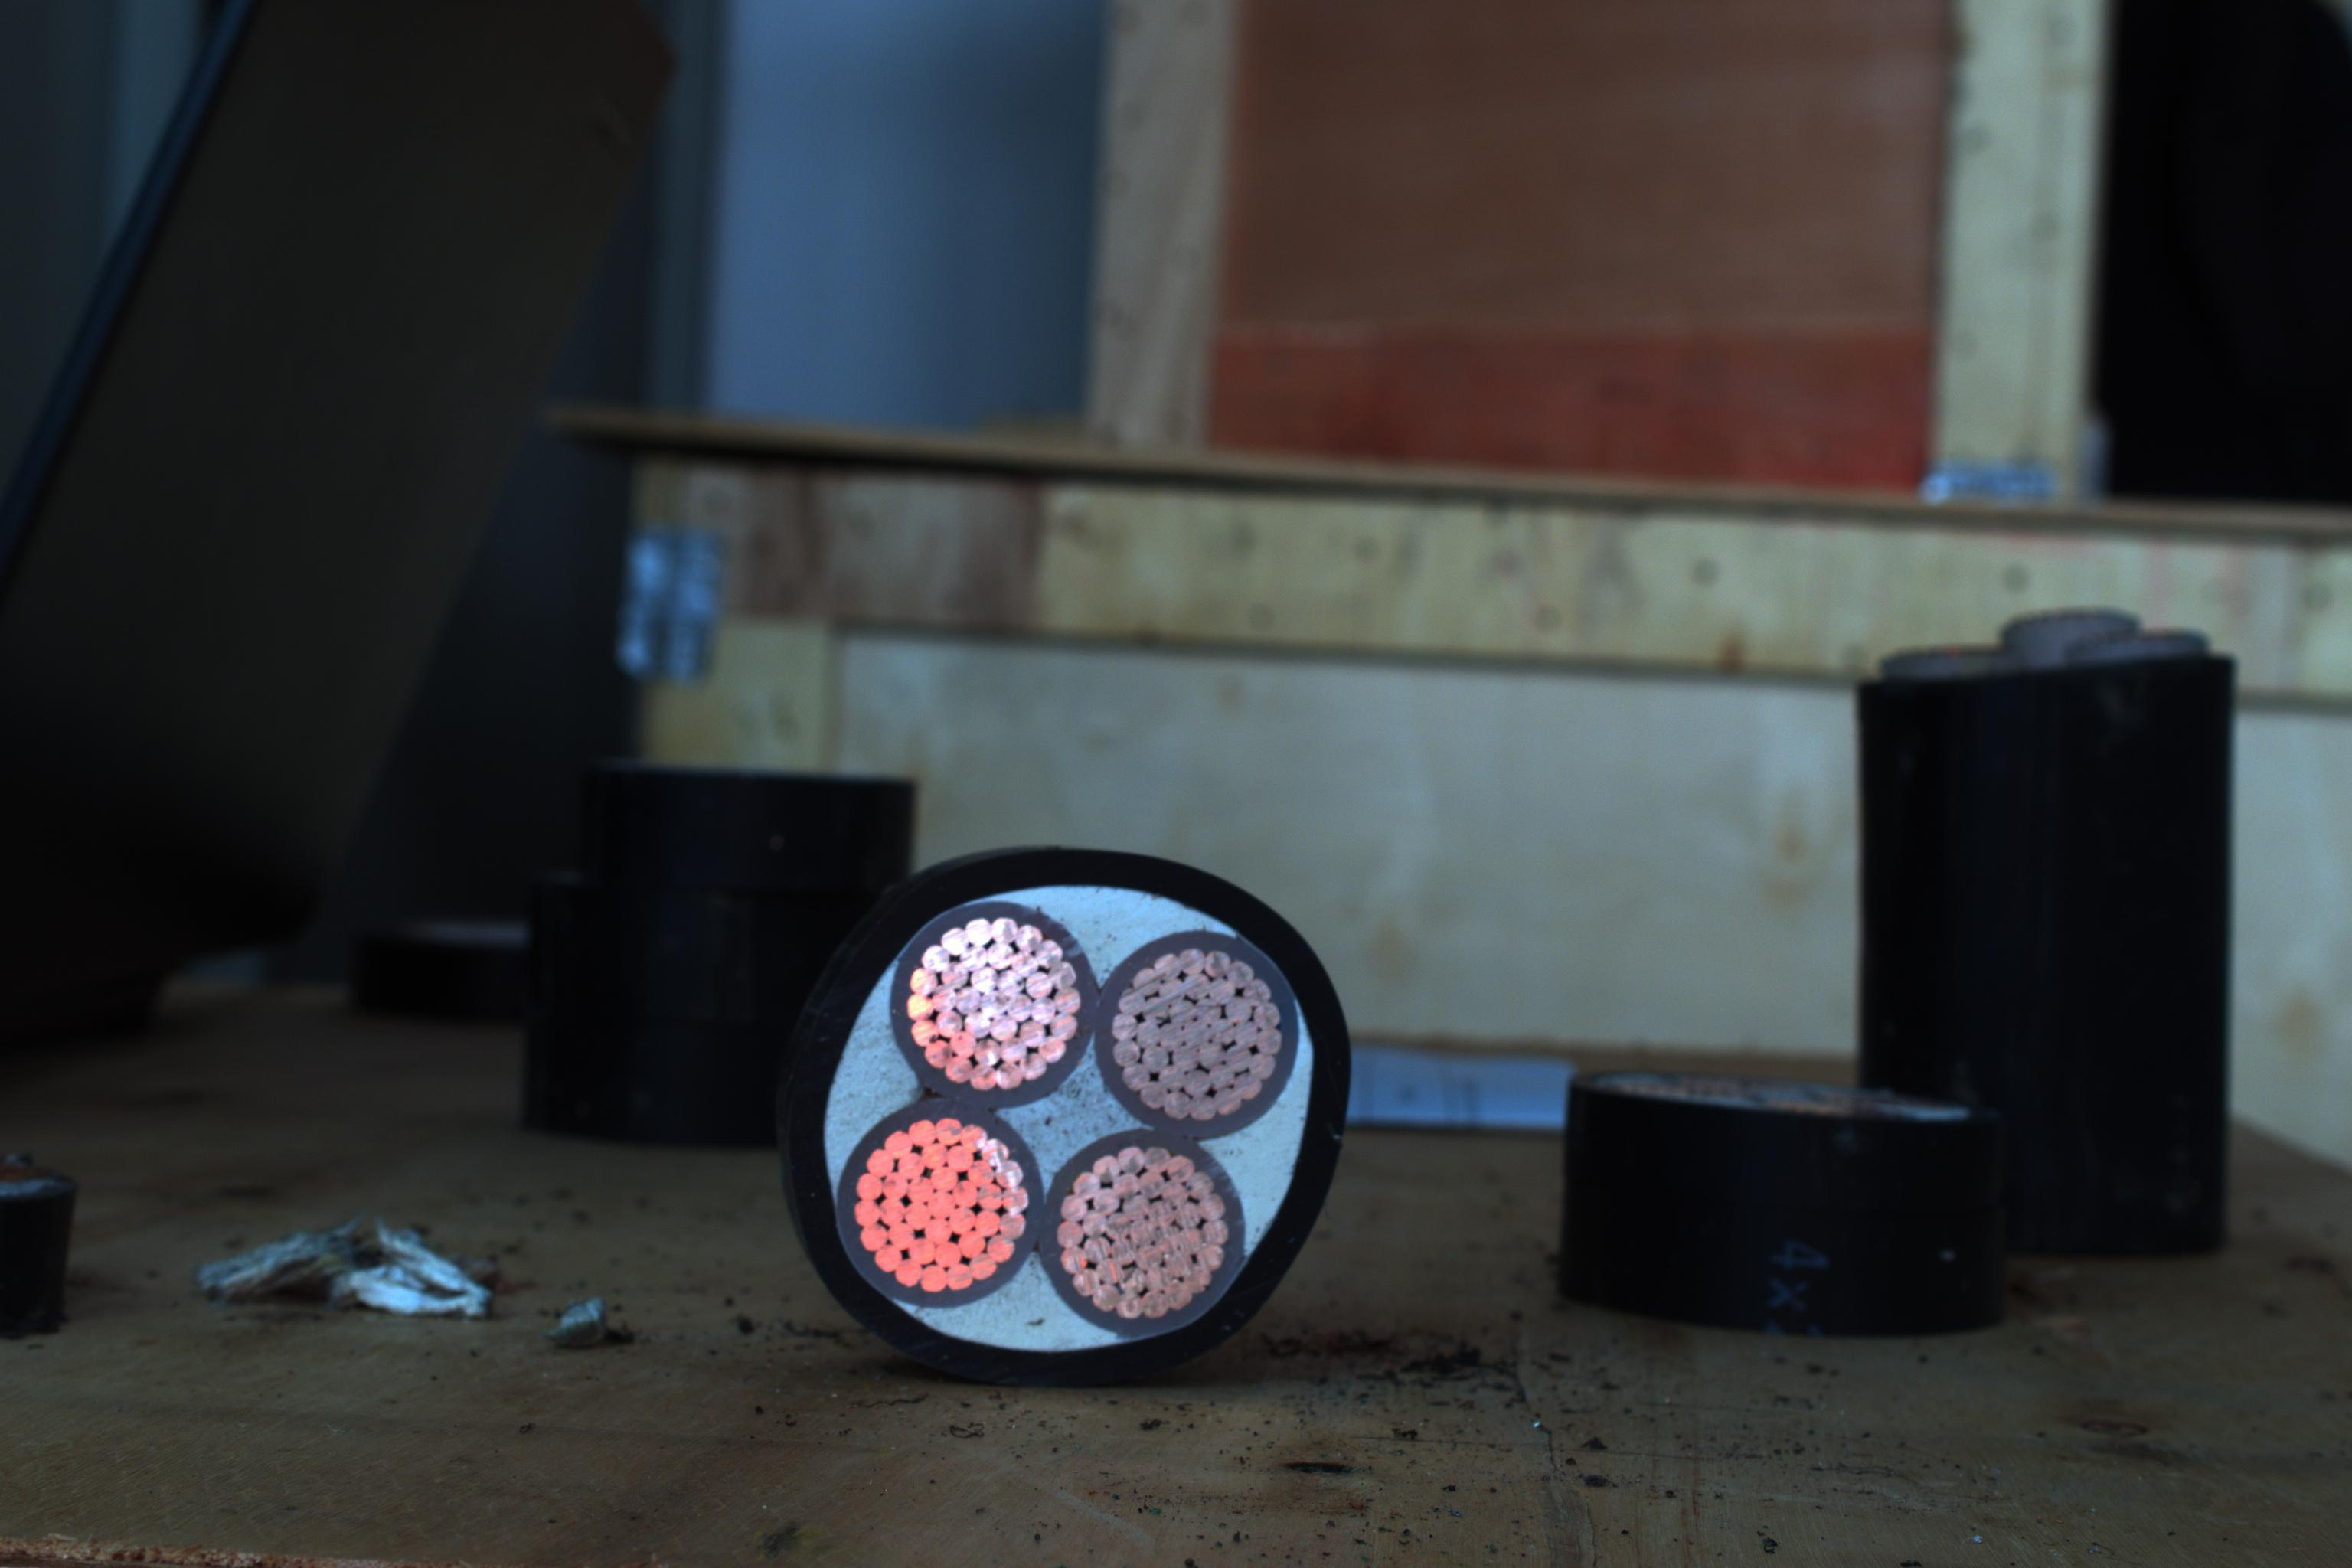YJV_0.6_1kV_4x240: (803, 822, 1349, 1354)
